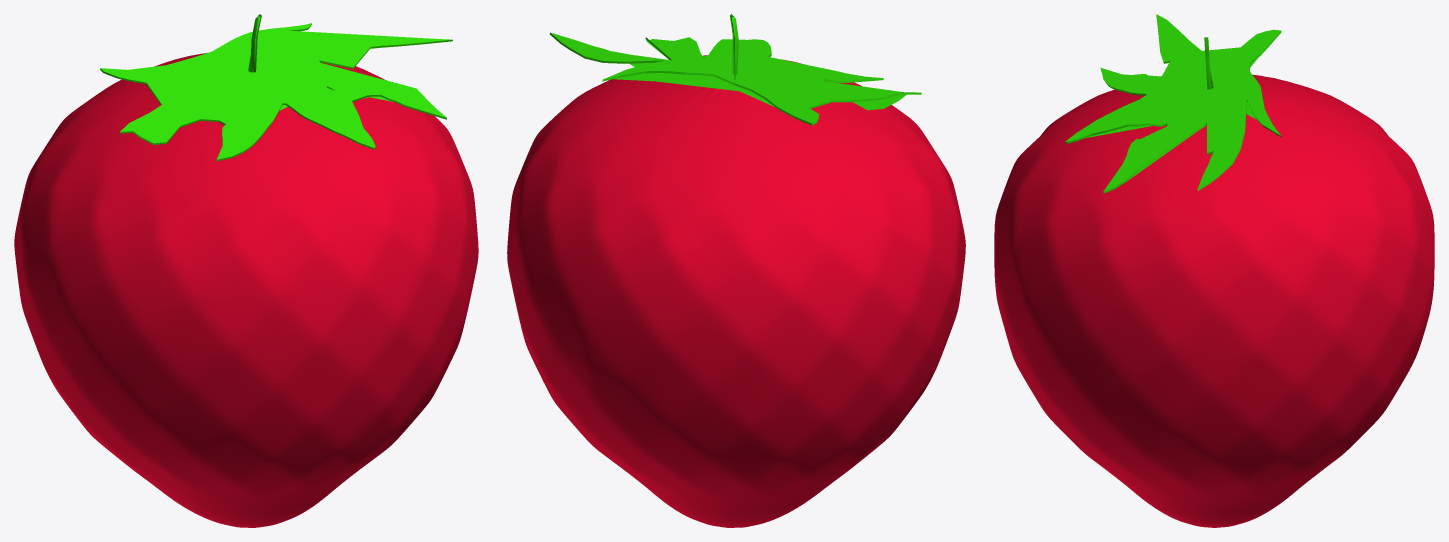
File: strawberry.glb
3 renders of one model, left to right at view 1: azimuth 30°, elevation 25°; view 2: azimuth 150°, elevation 25°; view 3: azimuth 270°, elevation 25°, orthographic. The views are drawn at different scales.
Visible parts, largest first — view 1: Strawberry, List; view 2: Strawberry, List; view 3: Strawberry, List.
Boxes of the visible parts, x1=… form: Strawberry: x1=14, y1=53, x2=478, y2=527; List: x1=100, y1=23, x2=452, y2=161; Strawberry: x1=507, y1=55, x2=965, y2=527; List: x1=549, y1=32, x2=921, y2=125; Strawberry: x1=994, y1=74, x2=1434, y2=527; List: x1=1065, y1=14, x2=1281, y2=193.
Size of the model in its own units: 1.11 by 1.35 by 1.11.
